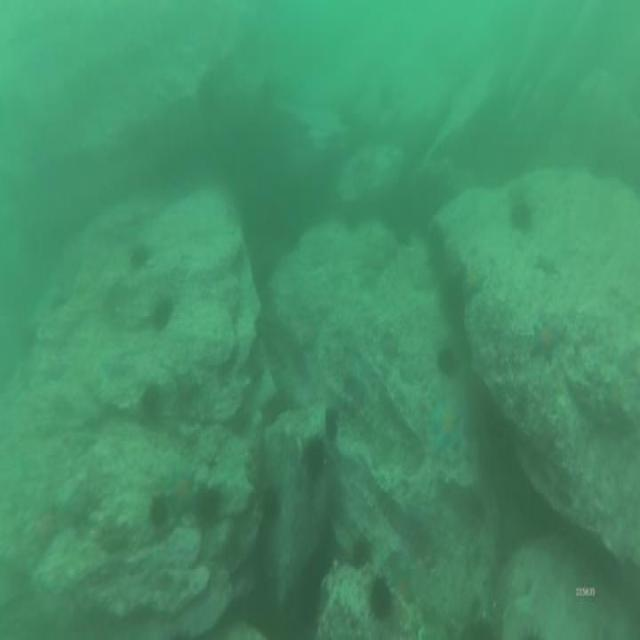echinus: (142, 384, 164, 427), (302, 439, 326, 476), (508, 202, 532, 234), (369, 577, 386, 618), (436, 343, 458, 373), (130, 243, 150, 272), (349, 533, 367, 564), (153, 294, 171, 325), (149, 498, 169, 523), (264, 488, 277, 517)
starfish: (428, 400, 460, 452), (530, 318, 562, 360), (174, 368, 201, 412), (170, 472, 198, 514), (29, 512, 58, 548), (98, 521, 127, 550), (393, 564, 411, 607), (462, 268, 486, 298), (381, 328, 398, 358), (536, 251, 556, 275)
